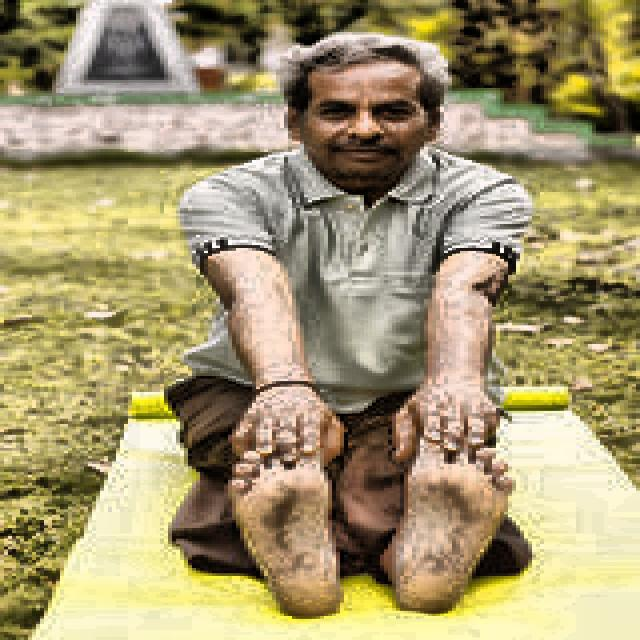Human: (152, 26, 560, 601)
